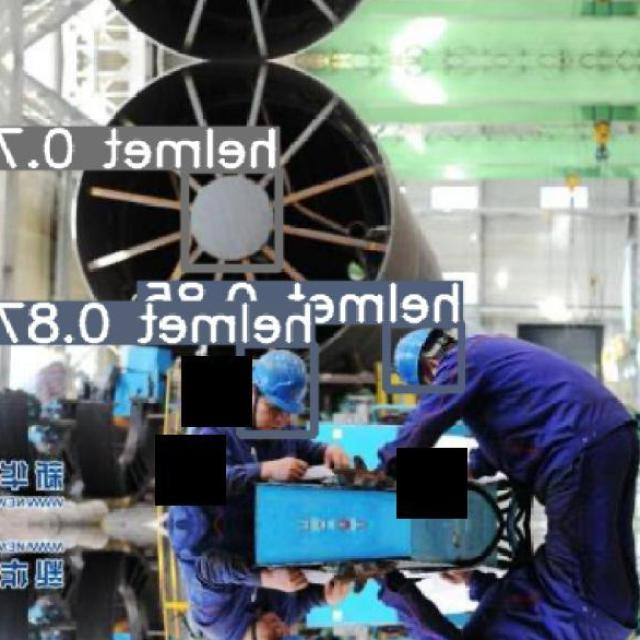helmet: (394, 326, 459, 386)
